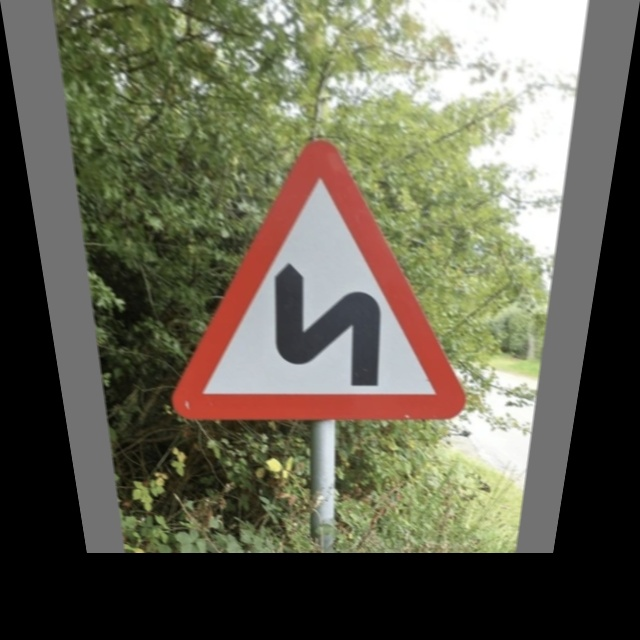Left_Reverse_Bend: (148, 140, 488, 418)
